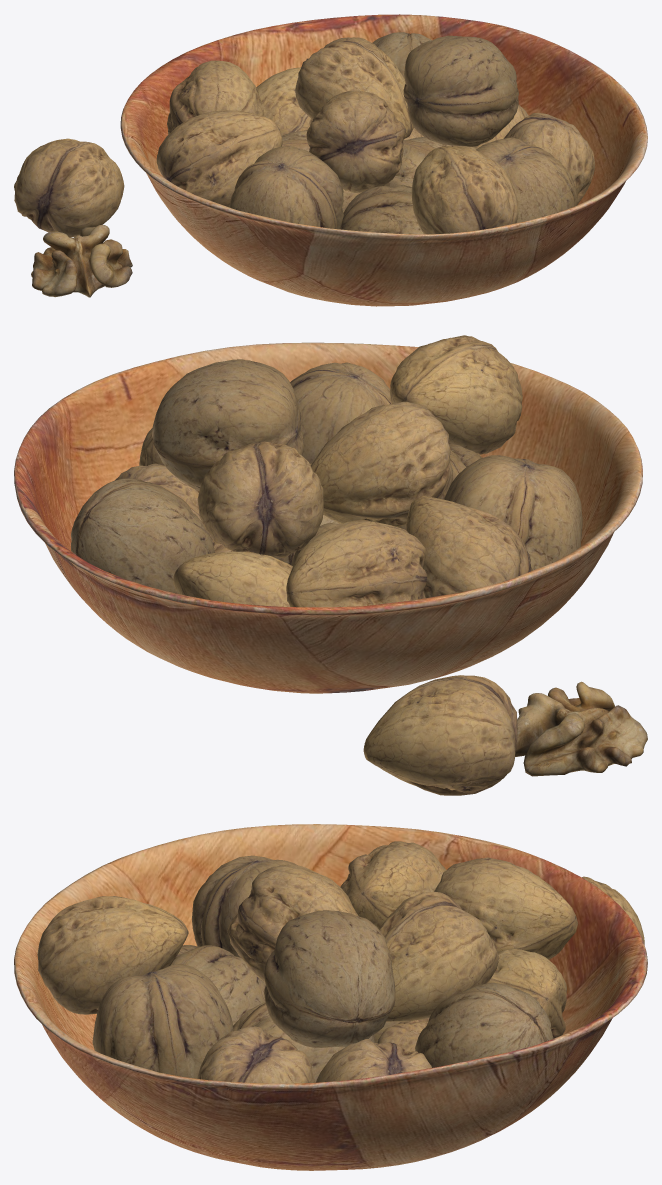
File: nuez.glb
The picture shows the model from 3 angles, top to bottom: view 1: azimuth 30°, elevation 25°; view 2: azimuth 150°, elevation 25°; view 3: azimuth 270°, elevation 25°; orthographic projection. The views are drawn at different scales.
Parts seen in each view (by area): view 1: Object_3, Object_5, Object_4, Object_2; view 2: Object_5, Object_3, Object_4, Object_2; view 3: Object_3, Object_5, Object_4.
Boxes of the visible parts, x1=… form: Object_3: x1=120, y1=14, x2=647, y2=306; Object_5: x1=14, y1=37, x2=594, y2=237; Object_4: x1=229, y1=32, x2=577, y2=234; Object_2: x1=31, y1=224, x2=132, y2=297; Object_5: x1=115, y1=335, x2=532, y2=795; Object_3: x1=14, y1=342, x2=642, y2=693; Object_4: x1=71, y1=359, x2=582, y2=593; Object_2: x1=515, y1=681, x2=647, y2=776; Object_3: x1=14, y1=824, x2=647, y2=1170; Object_5: x1=37, y1=841, x2=644, y2=1083; Object_4: x1=92, y1=855, x2=553, y2=1081.
Size of the model in its own units: 0.2692 by 0.0971 by 0.2374.
4 materials, 4 textured.
